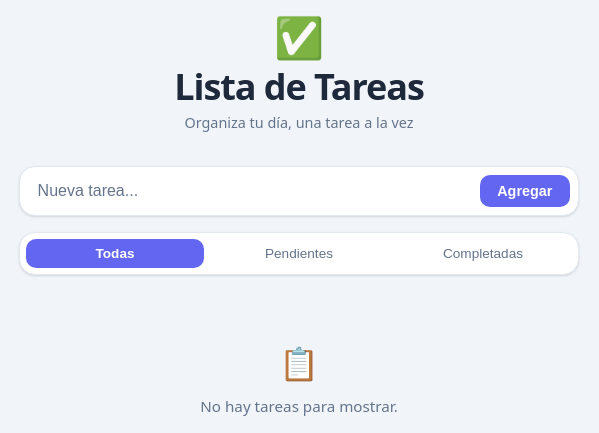
Test case: App — filtrar tareas por estado › el filtro "Todas" muestra todas las tareas
This screenshot has width=599, height=433.
Type "Tarea pendiente" into the field with placeholder "Nueva tarea...".
click(250, 191); type("Tarea pendiente")  # box [28,175,472,207]
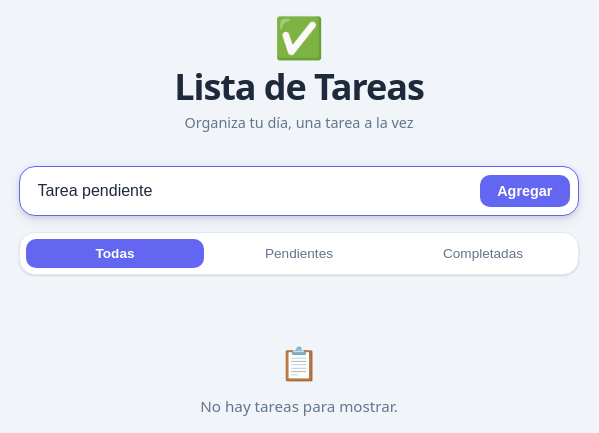
Click the button "Agregar".
click(525, 191)  # box [480,175,570,207]
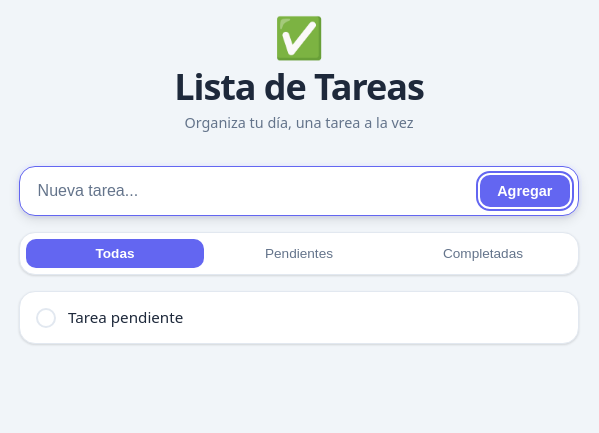
Type "Tarea completada" into the field with placeholder "Nueva tarea...".
click(250, 191); type("Tarea completada")  # box [28,175,472,207]
Click the button "Agregar".
click(525, 191)  # box [480,175,570,207]
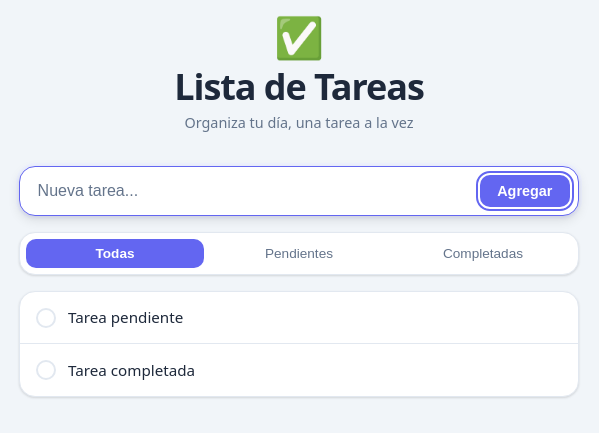
Click the checkbox named "Marcar \"Tarea completada\" como completada".
click(46, 370)  # box [36,360,56,380]
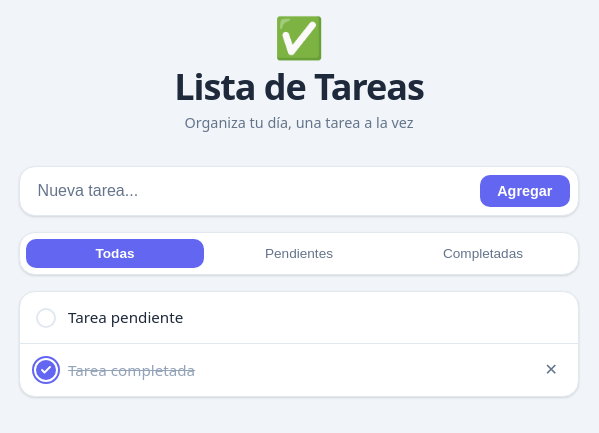
Click the button "Completadas".
click(483, 254)  # box [394,239,572,268]
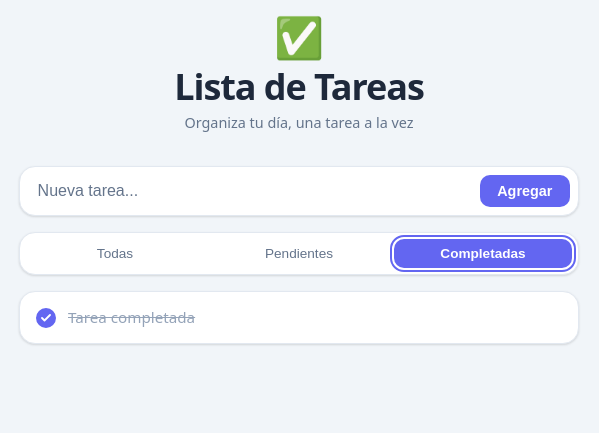
Click the button "Todas".
click(115, 254)  # box [26,239,204,268]
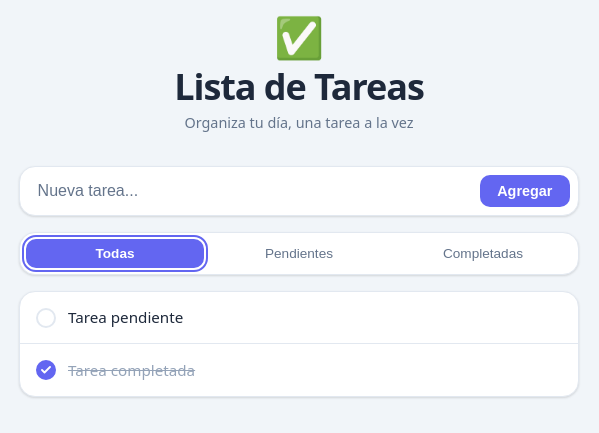
Now the text "Tarea completada" is shown, box [68,360,195,380]
Now the text "Tarea pendiente" is shown, box [68,307,183,327]
